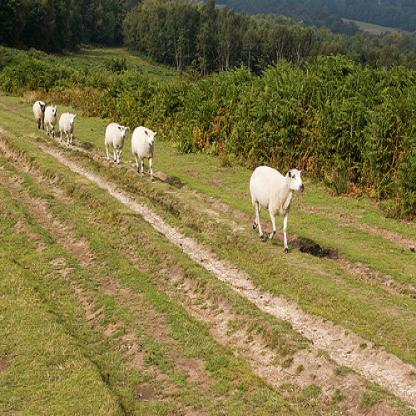sheep: (250, 162, 304, 252), (132, 126, 156, 182), (105, 120, 127, 166), (58, 113, 76, 146), (32, 96, 48, 131), (42, 103, 58, 137)
